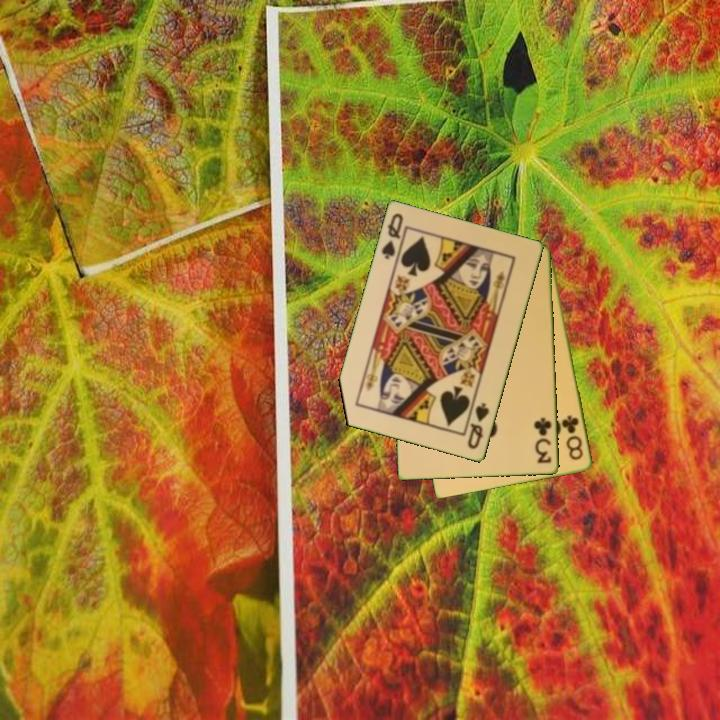3c: (531, 414, 555, 467)
8c: (559, 412, 586, 463)
Qs: (378, 210, 409, 266), (464, 399, 492, 452)
